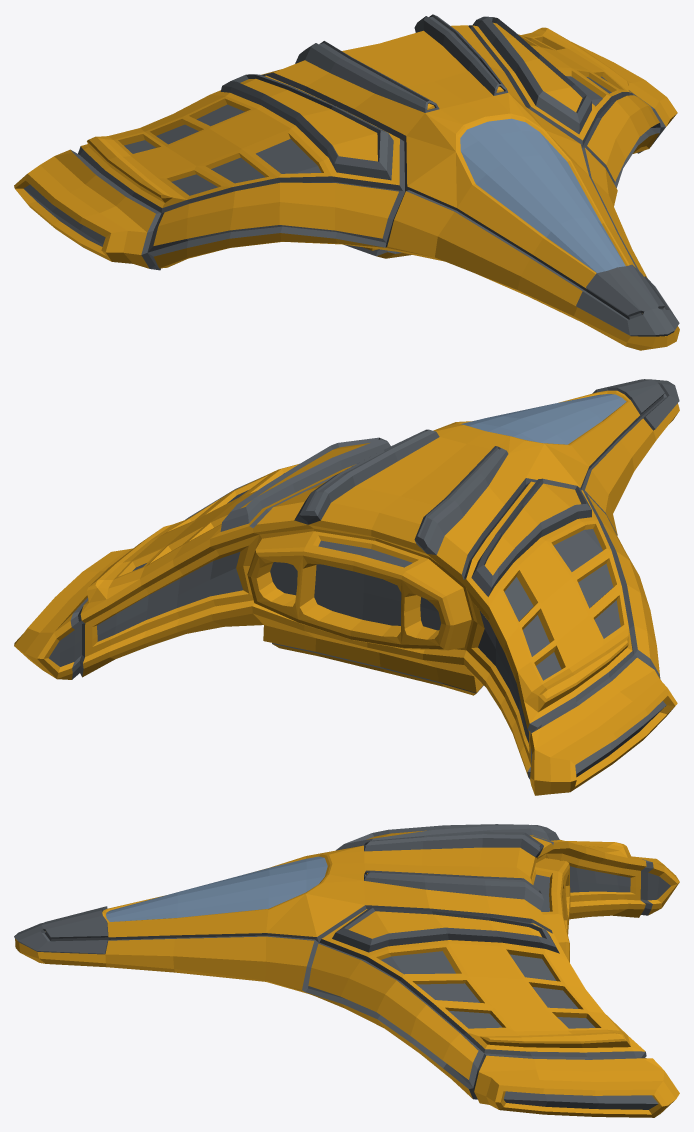
Rendered from Fighter_09_Body_Yellow.fbx.
The picture shows the model from 3 angles, top to bottom: view 1: azimuth 30°, elevation 25°; view 2: azimuth 150°, elevation 25°; view 3: azimuth 270°, elevation 25°; orthographic projection. The views are drawn at different scales.
Visible parts, largest first — view 1: Fighter_09_Body_Yellow; view 2: Fighter_09_Body_Yellow; view 3: Fighter_09_Body_Yellow.
Boxes of the visible parts, x1,y1,x2,y2 form: Fighter_09_Body_Yellow: (14, 14, 679, 350); Fighter_09_Body_Yellow: (14, 379, 679, 795); Fighter_09_Body_Yellow: (14, 824, 679, 1117).
Bounding box in the file's own units: 1089 × 331 × 1256.
2 materials, 2 textured.
